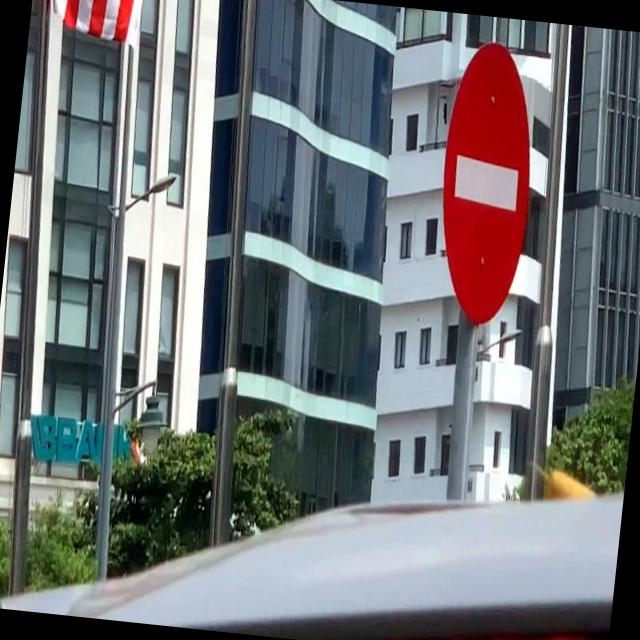P-102: (426, 39, 546, 327)
